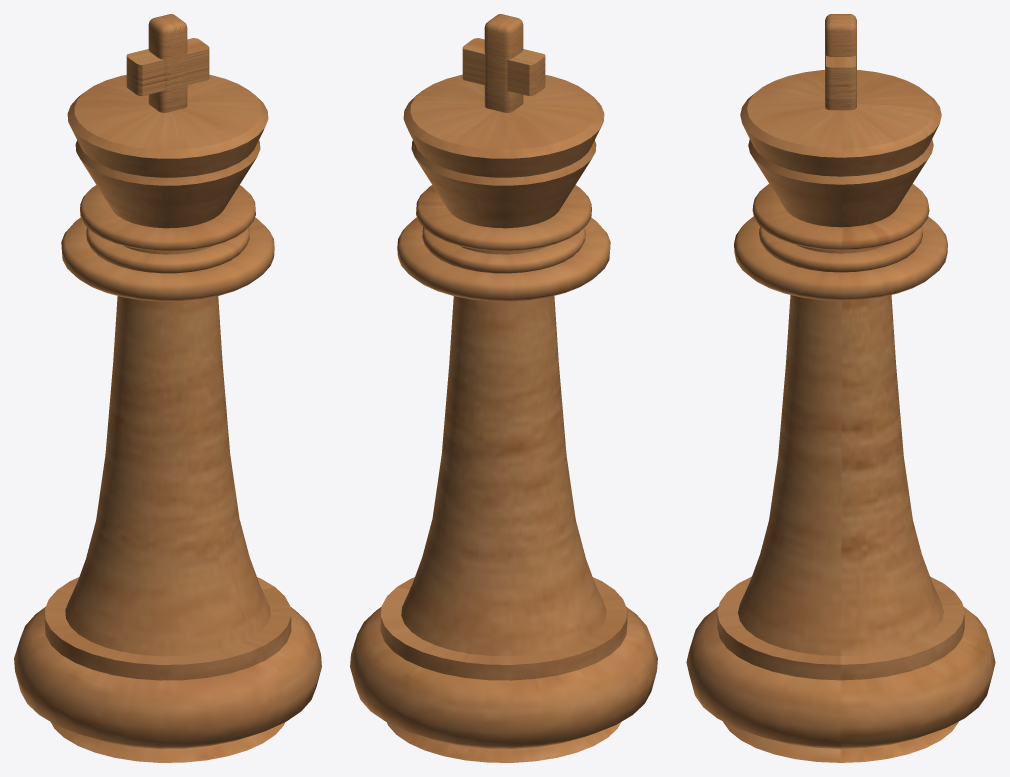
Rendered from WhiteKing.FBX.
The picture shows the model from 3 angles, left to right: view 1: azimuth 30°, elevation 25°; view 2: azimuth 150°, elevation 25°; view 3: azimuth 270°, elevation 25°; orthographic projection.
Visible parts, largest first — view 1: KingW, King Cross01; view 2: KingW, King Cross01; view 3: KingW, King Cross01.
Boxes of the visible parts, x1,y1,x2,y2 form: KingW: [14, 74, 321, 762]; King Cross01: [126, 14, 209, 112]; KingW: [350, 74, 657, 762]; King Cross01: [462, 14, 545, 112]; KingW: [686, 70, 995, 762]; King Cross01: [825, 14, 856, 110].
Size of the model in its own units: 0.1843 by 0.1843 by 0.4563.
1 material, 1 textured.
